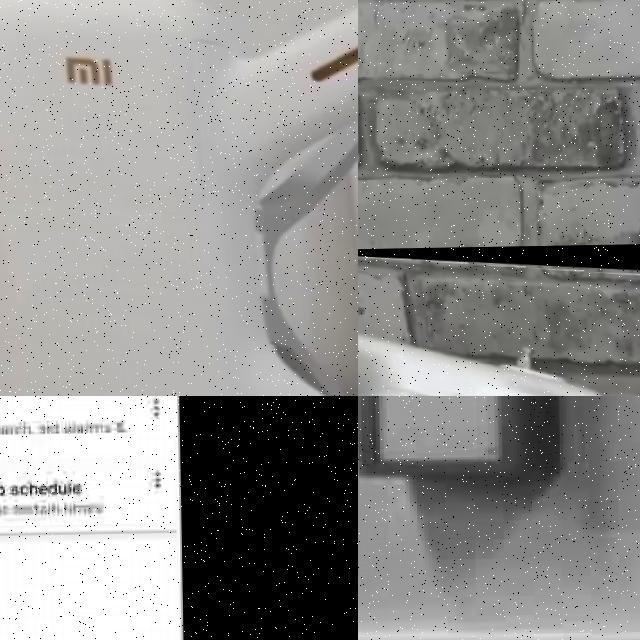drone: (0, 0, 358, 396), (358, 240, 640, 396)
